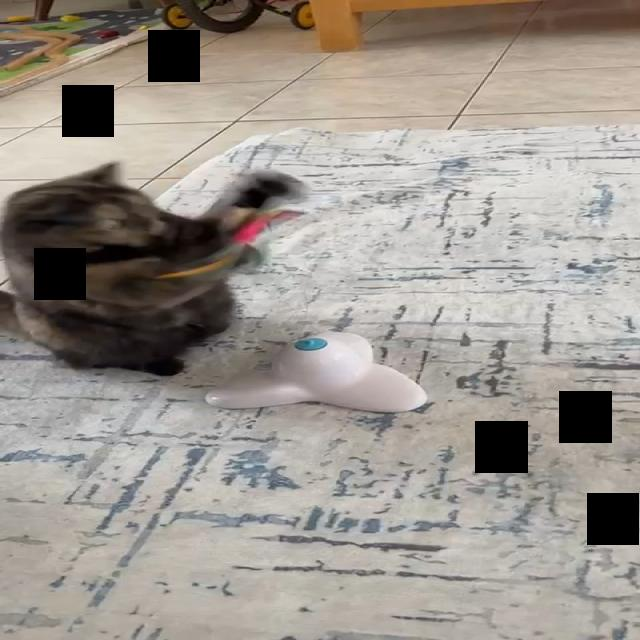authorized: (0, 160, 308, 377)
